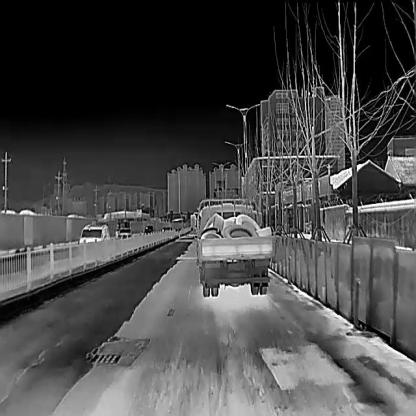car: (78, 223, 108, 247), (116, 228, 132, 240)
truck: (196, 198, 274, 297)
